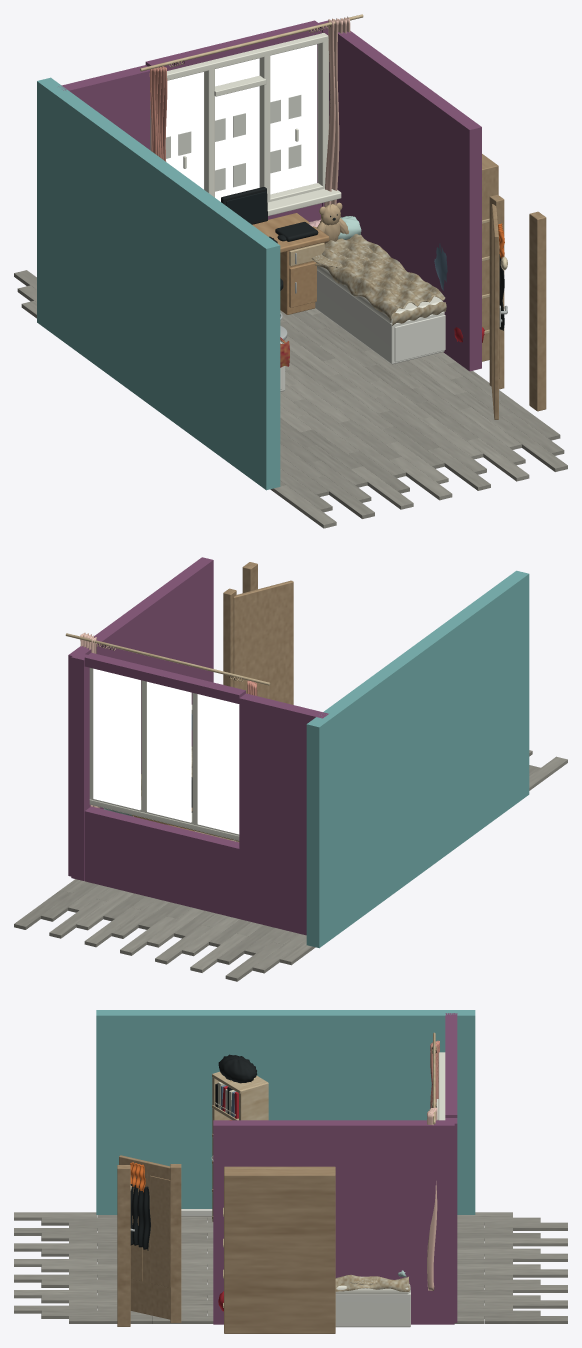
Rendered from kimik3.1_wours.glb.
3 views of the same model, one above another, from view 1: azimuth 30°, elevation 25°; view 2: azimuth 150°, elevation 25°; view 3: azimuth 270°, elevation 25° (orthographic). The views are drawn at different scales.
Visible parts, largest first — view 1: Turquoise left wall, Right narrow visible wall, Bright window pane 2, Gold floral duvet on right bed, Bright window pane 1, Plum rear wall left pier, Near right doorframe crop, Right bed white storage divan, Bright window pane 0, Right long patterned curtain, Rear wall above window, Right bed front panel (+55 smaller); view 2: Turquoise left wall, Plum rear wall left pier, Rear wall below window, Right narrow visible wall, Open oak door leaf, Bright window pane 2, Bright window pane 1, Bright window pane 0, Plum rear wall right pier, Rear wall above window, Door frame right jamb, Broad window sill (+19 smaller); view 3: Turquoise left wall, Right narrow visible wall, Right side cabinet edge, Right bed white storage divan, Door shallow vertical panel, Near right doorframe crop, Open oak door leaf, Door frame right jamb, Black garment hanging on door, Bookcase right upright, Rear wall above window, Gold floral duvet on right bed (+38 smaller).
Part boxes in pixels (x1,y1,x2,y2): Turquoise left wall: (37,77,280,490); Right narrow visible wall: (326,22,481,371); Bright window pane 2: (270,44,317,194); Gold floral duvet on right bed: (315,234,445,321); Bright window pane 1: (215,58,258,201); Plum rear wall left pier: (58,65,150,149); Near right doorframe crop: (529,211,546,411); Right bed white storage divan: (315,270,444,364); Bright window pane 0: (166,72,203,188); Right long patterned curtain: (324,16,350,206); Rear wall above window: (145,20,321,70); Right bed front panel: (394,315,445,362); Turquoise left wall: (306,570,529,948); Plum rear wall left pier: (239,693,328,935); Rear wall below window: (84,806,239,918); Right narrow visible wall: (68,557,213,876); Open oak door leaf: (233,580,293,704); Bright window pane 2: (93,668,140,810); Bright window pane 1: (147,681,191,822); Bright window pane 0: (197,694,239,834); Plum rear wall right pier: (71,654,90,880); Rear wall above window: (84,652,245,703); Door frame right jamb: (223,588,236,687); Broad window sill: (89,799,239,840); Turquoise left wall: (96,1010,475,1214); Right narrow visible wall: (213,1120,454,1324); Right side cabinet edge: (224,1166,335,1333); Right bed white storage divan: (335,1290,410,1327); Door shallow vertical panel: (150,1175,170,1287); Near right doorframe crop: (117,1165,130,1326); Open oak door leaf: (119,1155,170,1319); Door frame right jamb: (170,1164,181,1322); Black garment hanging on door: (130,1184,150,1250); Bookcase right upright: (239,1083,268,1120); Rear wall above window: (445,1047,457,1117); Gold floral duvet on right bed: (335,1274,409,1291).
Bounding box in the file's own units: 3.98 × 3.17 × 7.46.
Materials: 38 (13 with a texture image).
